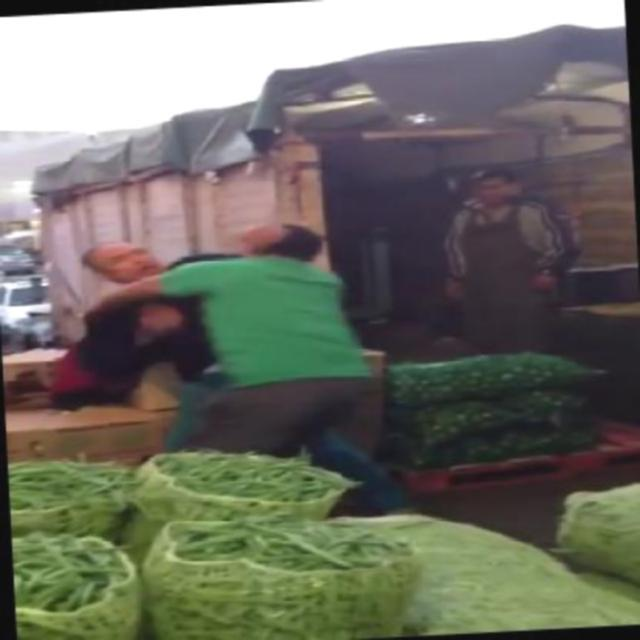fight: (72, 218, 386, 454)
non-fight: (420, 157, 586, 346)
